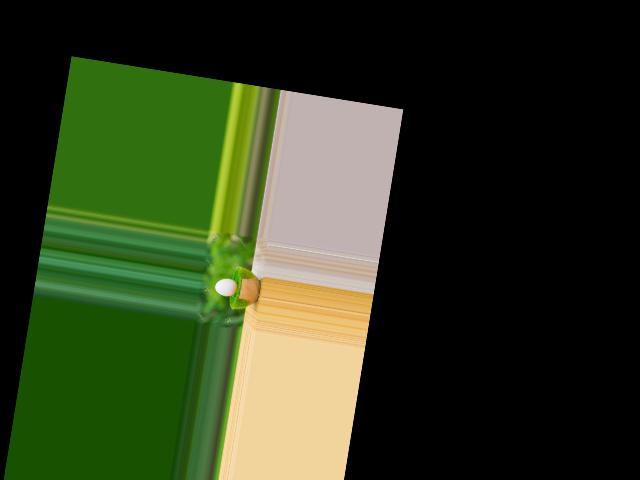egg: (214, 276, 239, 297)
